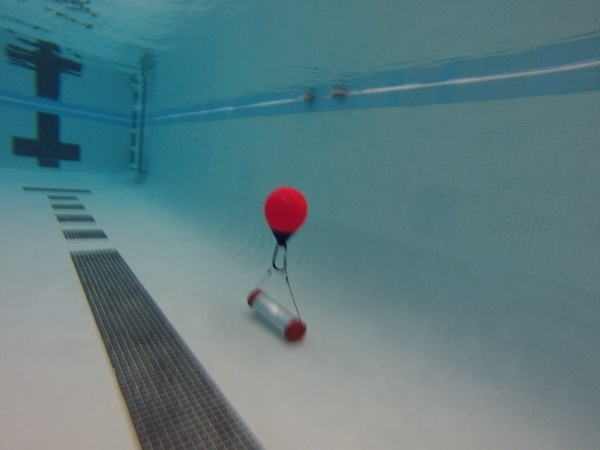buoy_red: (260, 187, 311, 246)
